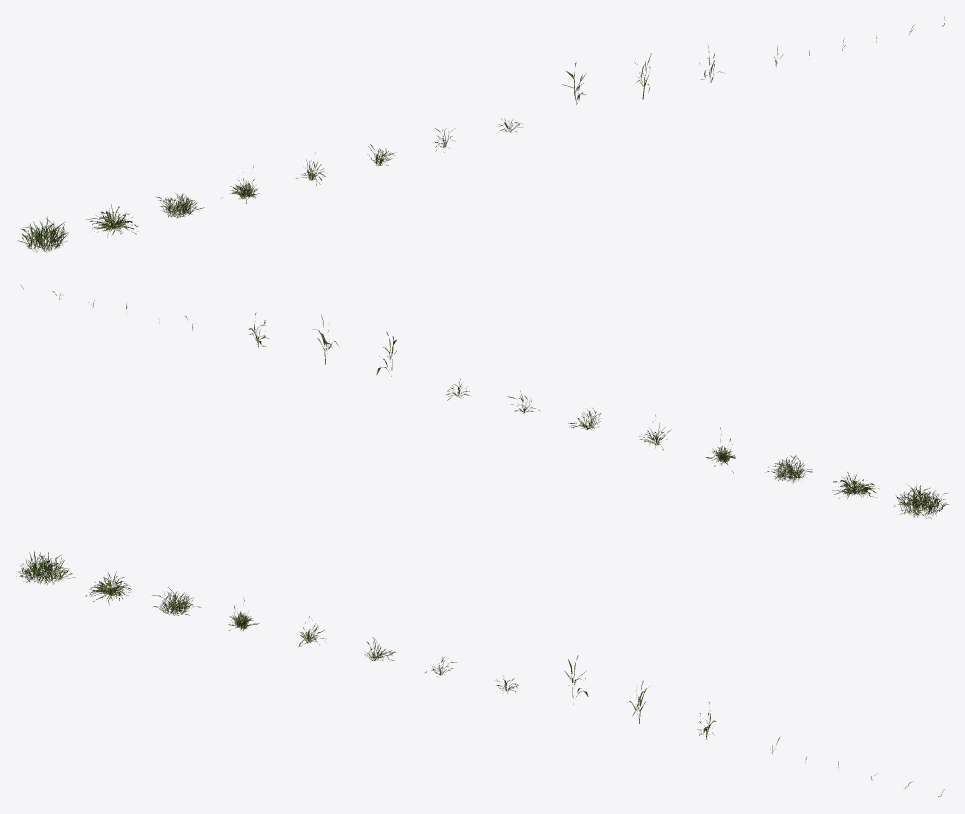
Rendered from grass_medium_01.fbx.
The picture shows the model from 3 angles, top to bottom: view 1: azimuth 30°, elevation 25°; view 2: azimuth 150°, elevation 25°; view 3: azimuth 330°, elevation 25°; orthographic projection.
Visible parts, largest first — view 1: grass_medium_01_large_a_LOD0, grass_medium_01_large_c_LOD0, grass_medium_01_large_b_LOD0; view 2: grass_medium_01_large_a_LOD0, grass_medium_01_large_c_LOD0; view 3: grass_medium_01_large_a_LOD0, grass_medium_01_large_b_LOD0, grass_medium_01_large_c_LOD0.
Part boxes in pixels (x1,y1,x2,y2): grass_medium_01_large_a_LOD0: (17,217,68,252); grass_medium_01_large_c_LOD0: (155,193,204,218); grass_medium_01_large_b_LOD0: (86,204,138,237); grass_medium_01_large_a_LOD0: (894,485,948,518); grass_medium_01_large_c_LOD0: (766,455,812,483); grass_medium_01_large_a_LOD0: (16,551,75,585); grass_medium_01_large_b_LOD0: (85,571,131,605); grass_medium_01_large_c_LOD0: (152,587,201,615).
Bounding box in the file's own units: 5.6 × 0.3423 × 0.3264.
1 material, 1 textured.
